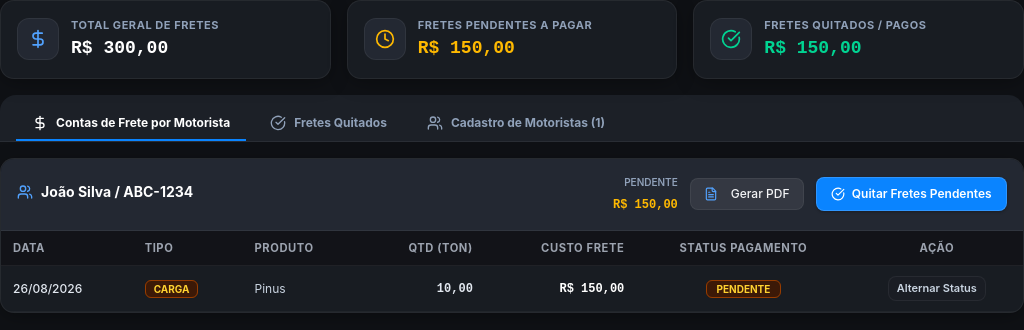
Scenario: Gestão de Motoristas — abas de fretes pendentes x quitados › mostra o frete pendente só na aba de pendentes e o quitado só em "Fretes Quitados"
The image size is (1024, 330).
Check: the text "26/08/2026" is shown, box [13,281,82,297]
Check: the text "15/07/2026" is not shown
Click the button "Fretes Quitados".
click(329, 124)  # box [254,106,403,140]
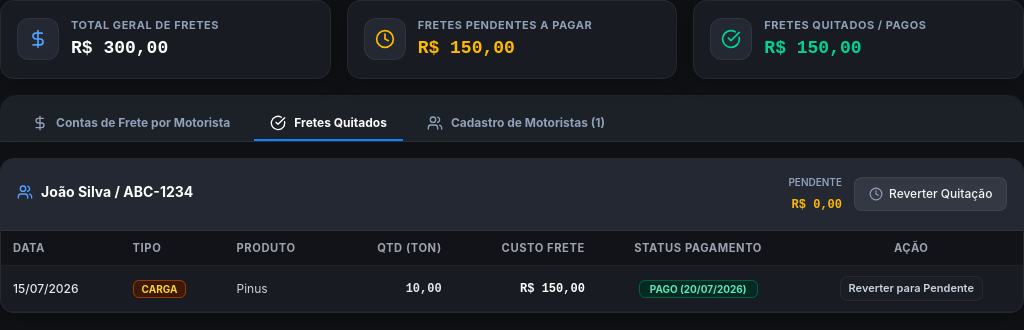
Check: the text "15/07/2026" is shown, box [13,281,79,297]
Check: the text "26/08/2026" is gone
Click the button "Contas de Frete por Motorista".
click(131, 124)  # box [16,106,246,140]
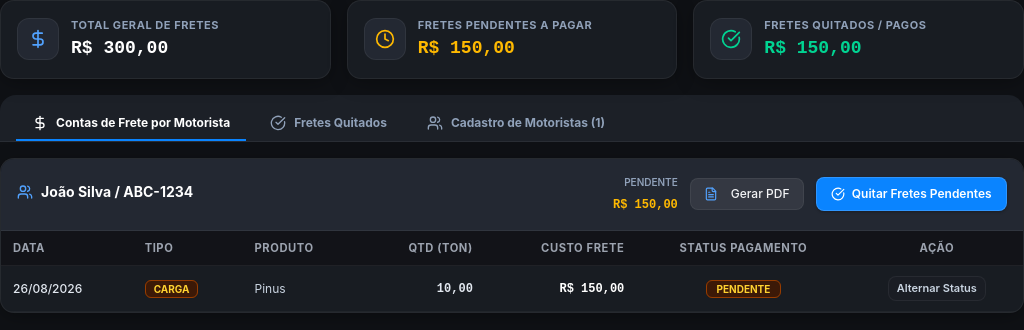
Check: the text "26/08/2026" is shown, box [13,281,82,297]
Check: the text "15/07/2026" is gone
